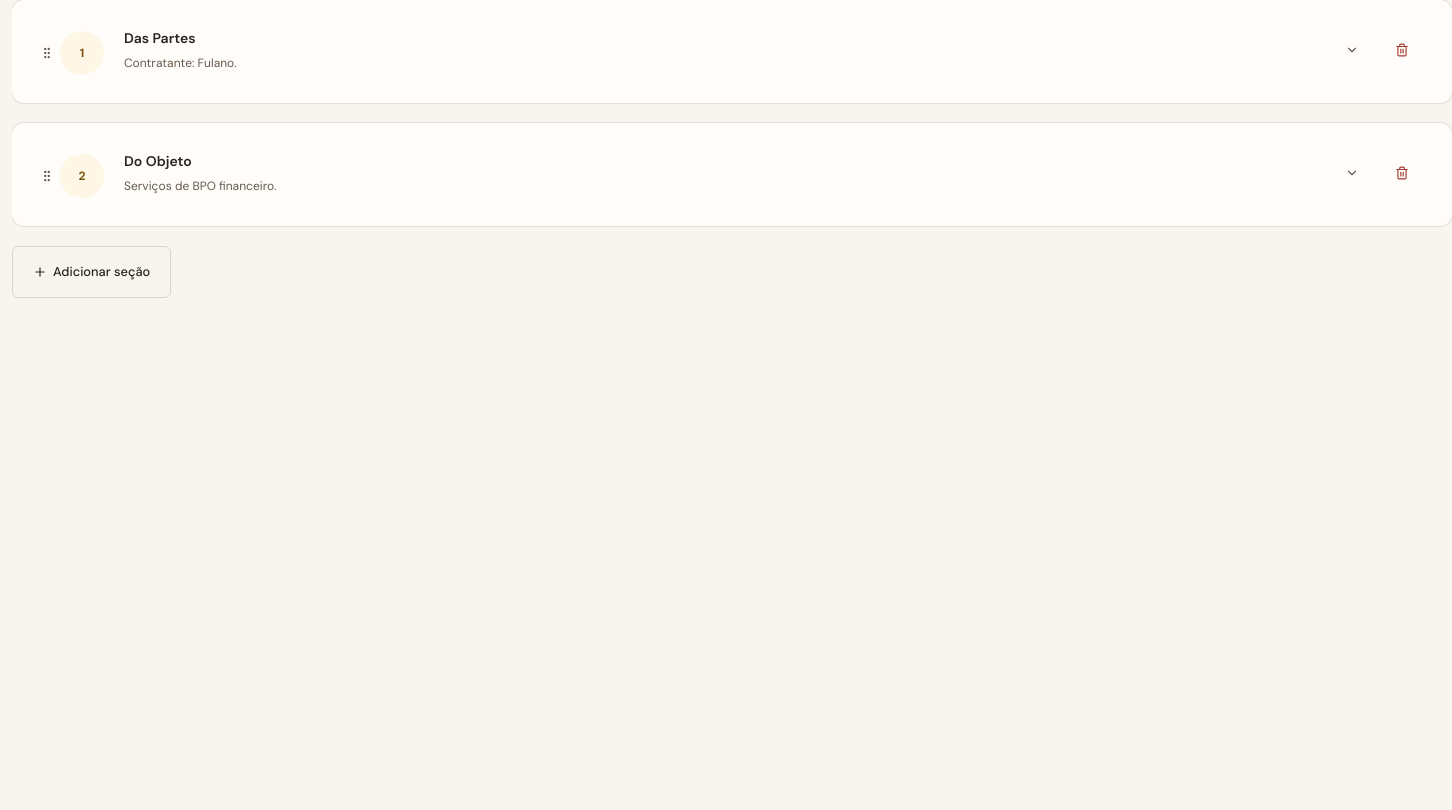
Test case: ContractSectionsEditor › cancelar a edição inline não altera as seções
Click the button named "editar seção" in the row of "Contratante: Fulano.": (1352, 50) [1330,28,1374,72]
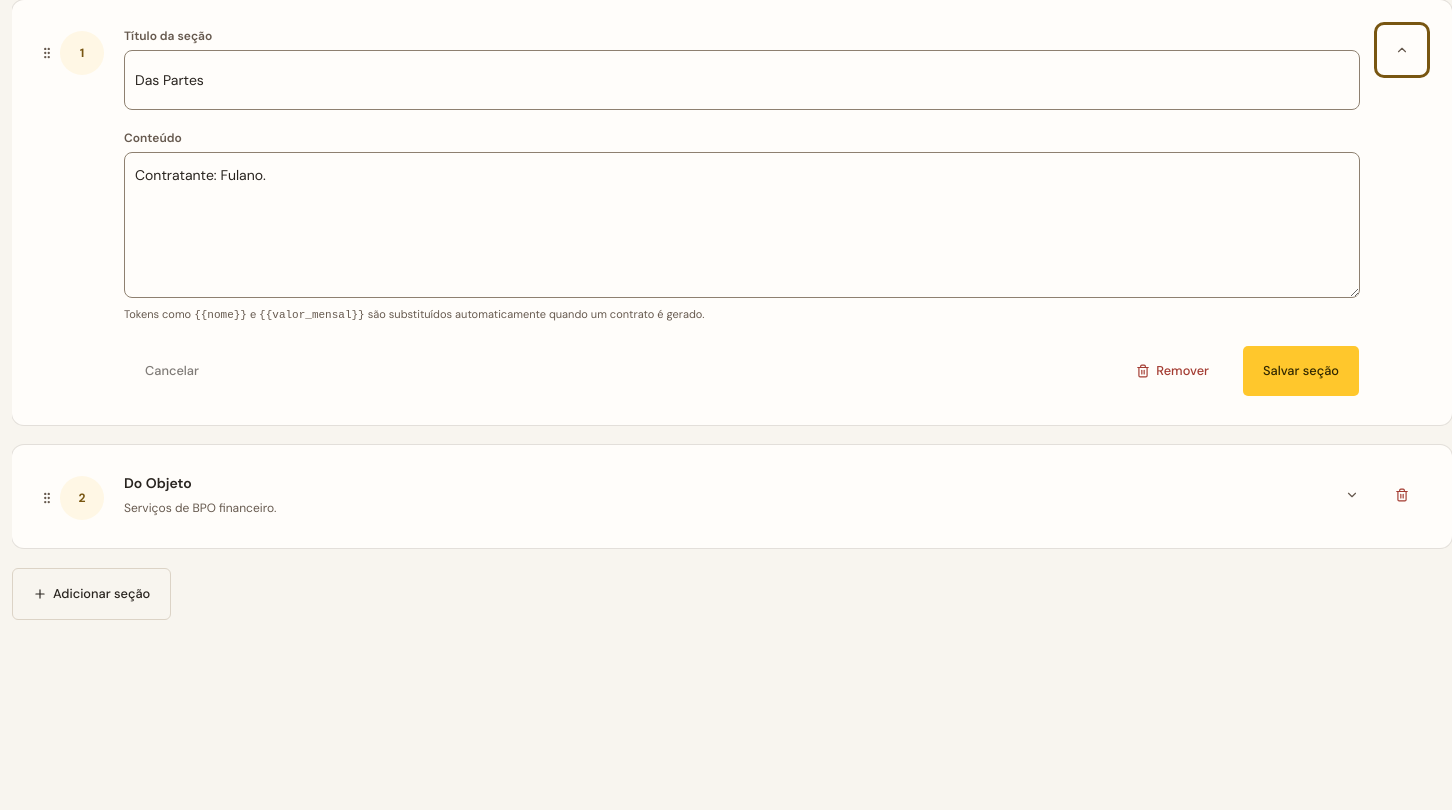
Replace the text in the field with test id "contract-section-title" with "Alteração descartada": (742, 80) [124,50,1360,110]
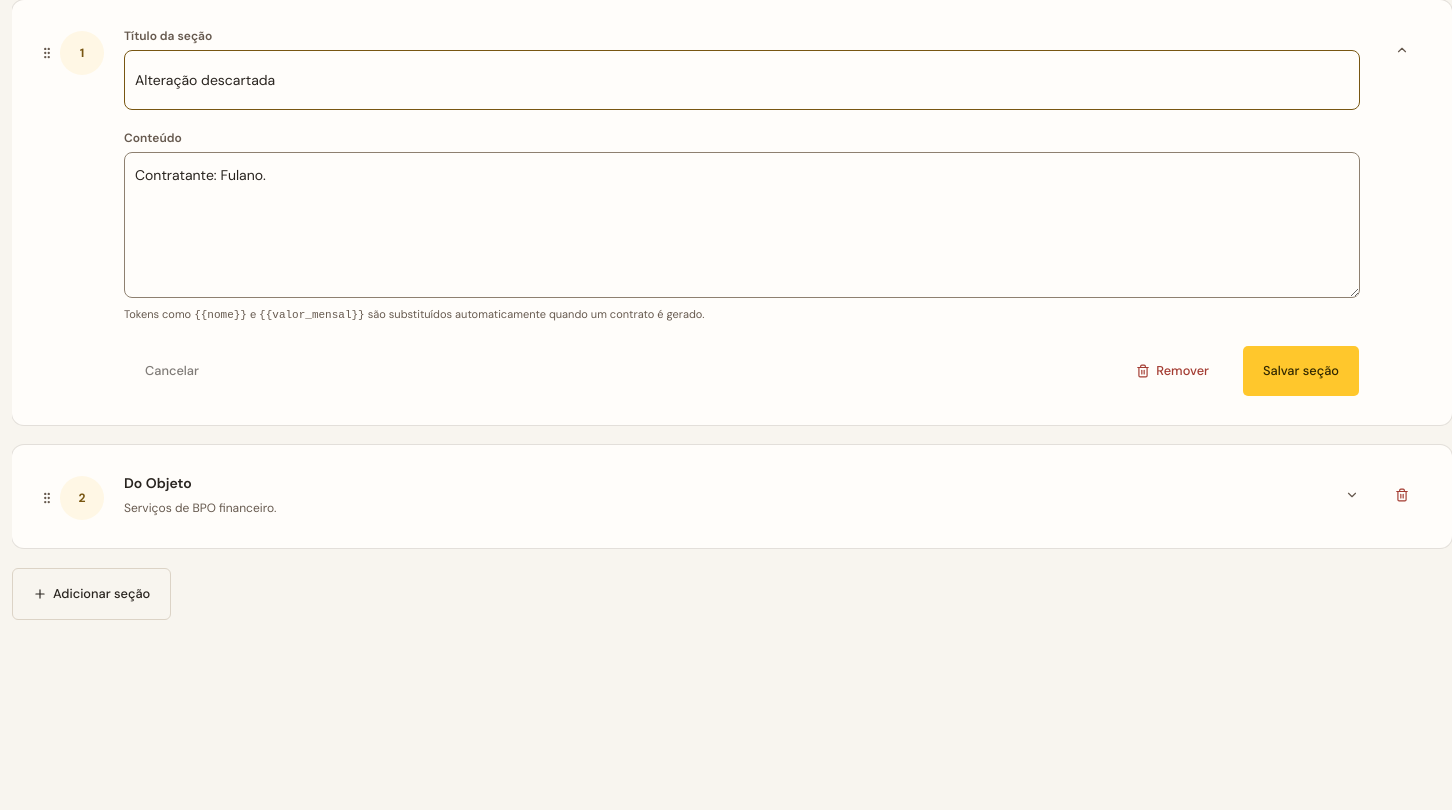
Click the button "Cancelar": (172, 371) [124,345,220,397]
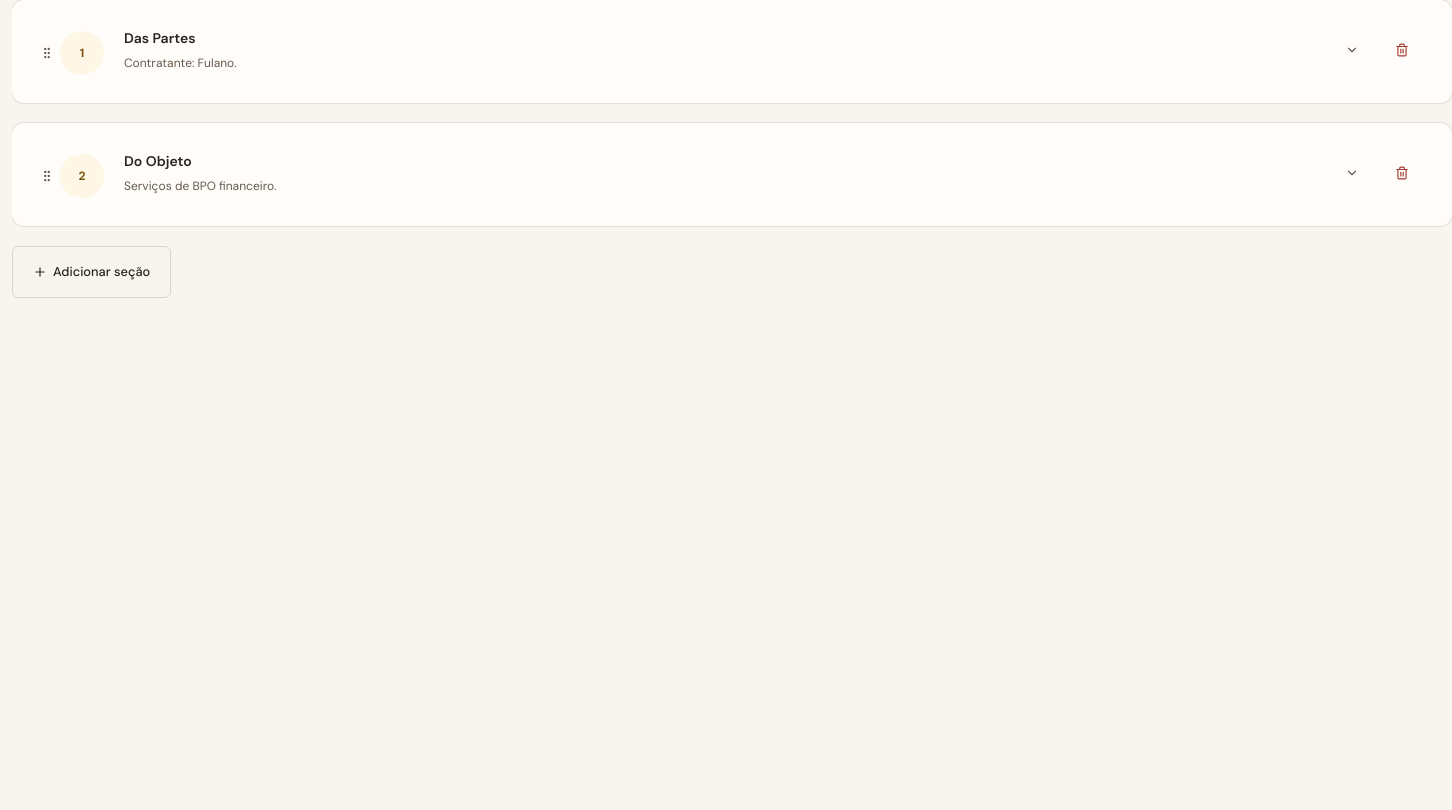
Now the text "Das Partes" is shown, box [124,29,196,47]
